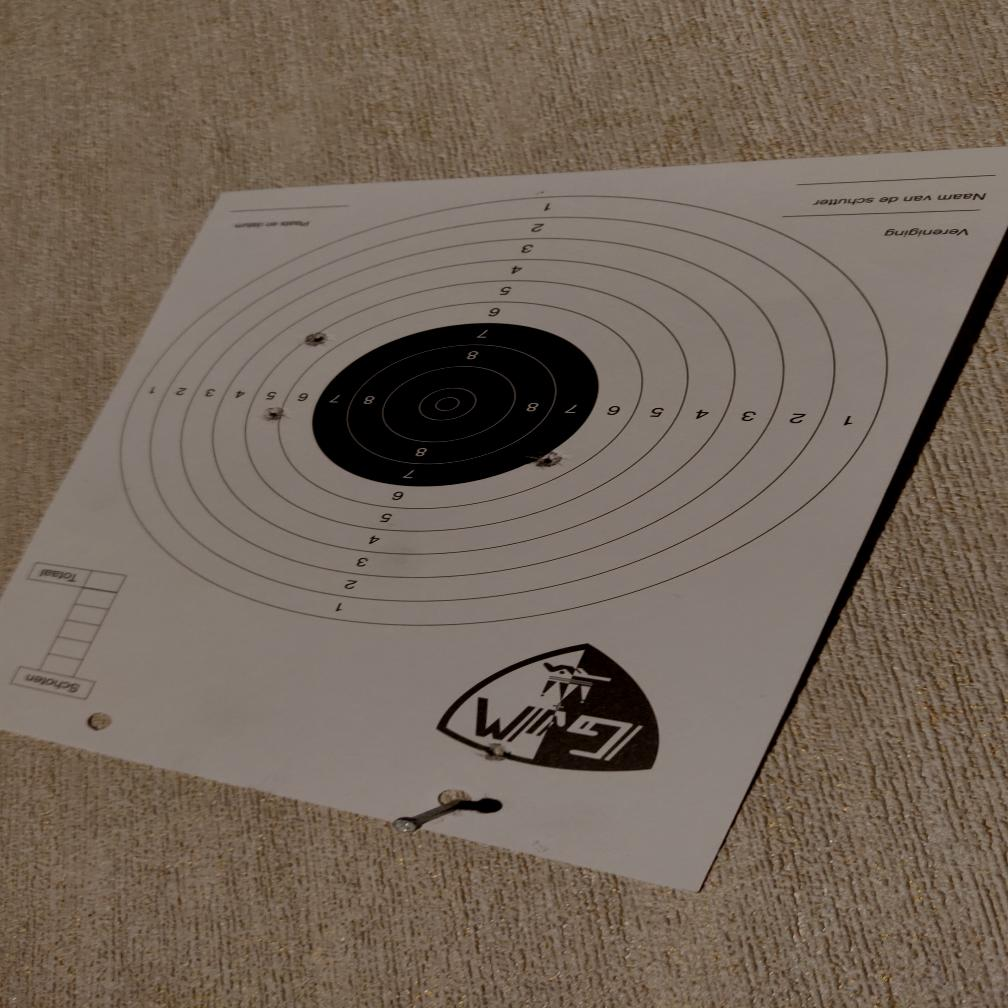0: (477, 742, 514, 762)
5: (303, 332, 331, 348)
6: (262, 406, 285, 421)
7: (524, 449, 566, 469)
Target: (112, 194, 893, 628)
black_contour: (313, 323, 594, 488)
